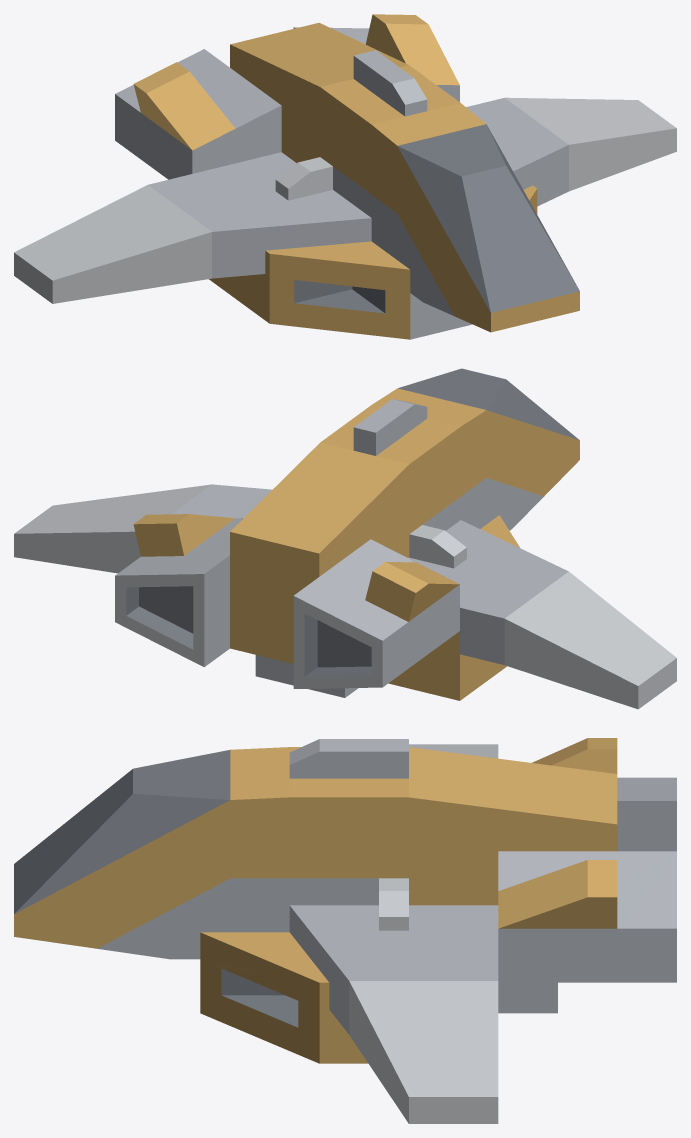
The model's file is craft_speederD.glb.
3 views of the same model, one above another, from view 1: azimuth 30°, elevation 25°; view 2: azimuth 150°, elevation 25°; view 3: azimuth 270°, elevation 25° (orthographic). The views are drawn at different scales.
Visible parts, largest first — view 1: craft_speederD; view 2: craft_speederD; view 3: craft_speederD.
Part boxes in pixels (<box>): craft_speederD: <box>14,14,676,339</box>; craft_speederD: <box>14,368,676,709</box>; craft_speederD: <box>14,738,676,1123</box>.
Size of the model in its own units: 1 by 0.3215 by 0.7949.
